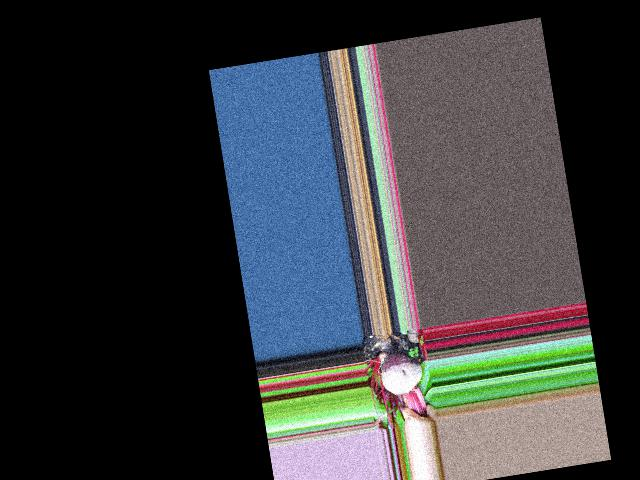beet: (374, 328, 429, 423)
